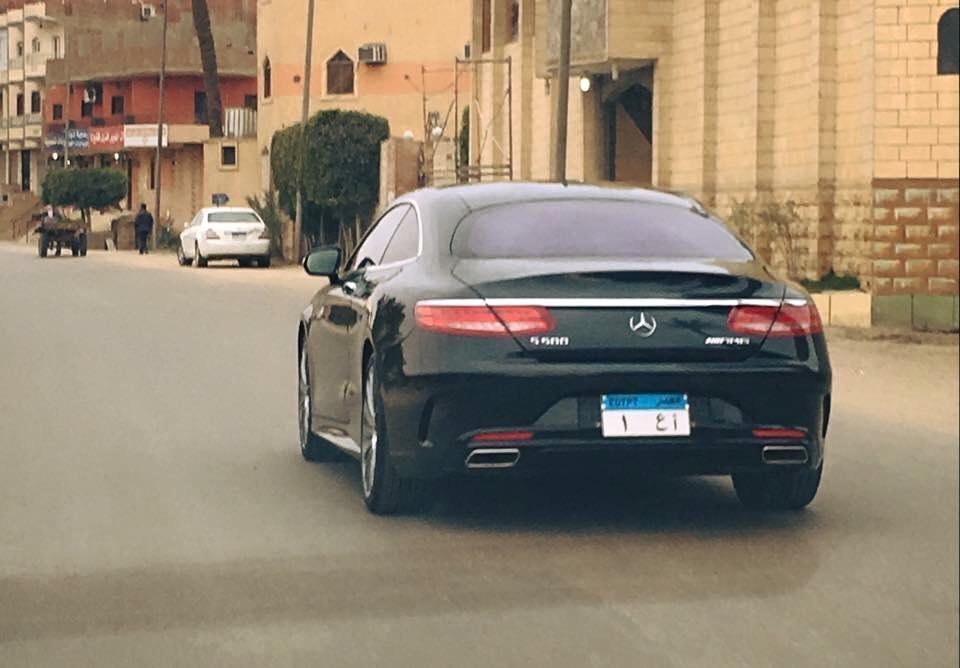1: (619, 413, 632, 434)
Een: (653, 411, 669, 433)
License Plate: (599, 390, 692, 439), (232, 233, 246, 241)
alef: (669, 411, 680, 432)
car: (295, 184, 834, 515), (176, 207, 275, 269)
